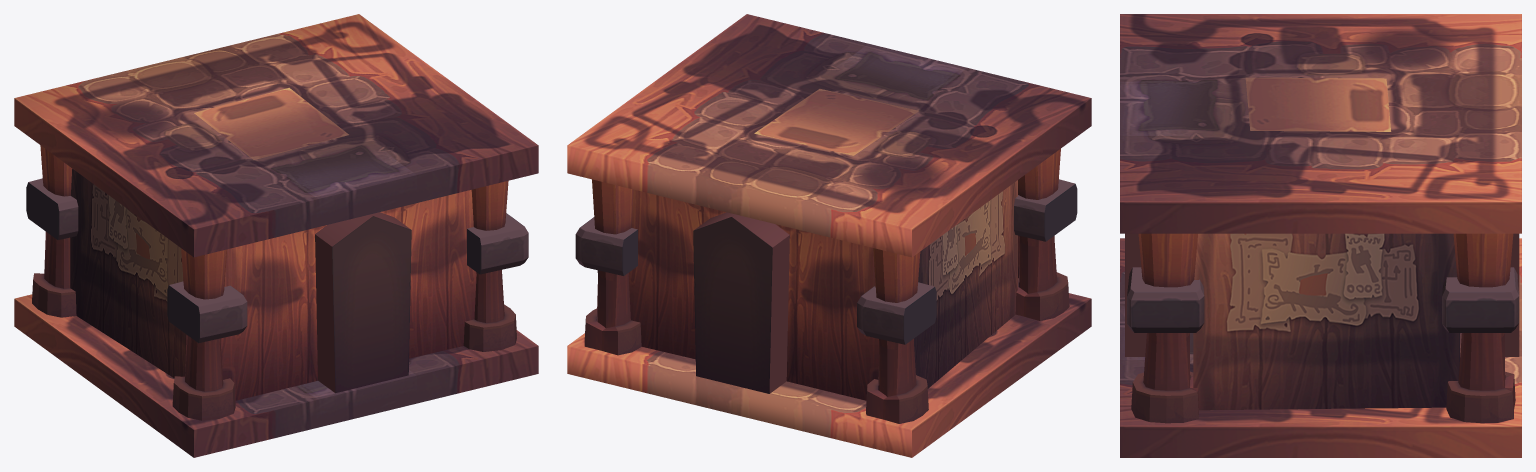
The model's file is House.fbx.
3 views of the same model, side by side, from view 1: azimuth 30°, elevation 25°; view 2: azimuth 150°, elevation 25°; view 3: azimuth 270°, elevation 25° (orthographic). The views are drawn at different scales.
Parts seen in each view (by area): view 1: House, door; view 2: House; view 3: House, side_wall, door.
Part boxes in pixels (left/top/right/bottom): House: left=14, top=14, right=538, bottom=457; door: left=220, top=190, right=476, bottom=400; House: left=567, top=14, right=1091, bottom=457; House: left=1120, top=14, right=1521, bottom=457; side_wall: left=1193, top=233, right=1459, bottom=410; door: left=1125, top=233, right=1146, bottom=356.
Size of the model in its own units: 26.31 by 16.79 by 23.73.
Materials: 1 (1 with a texture image).
